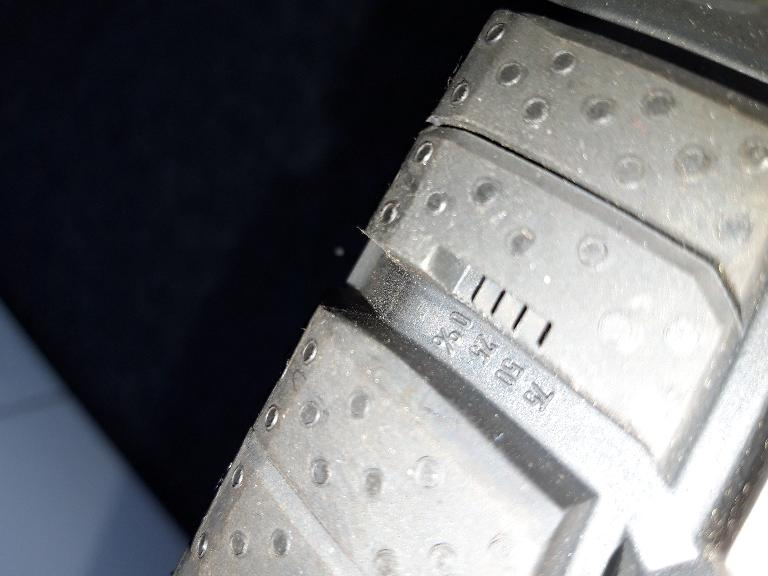temoin:100: (416, 242, 566, 384)
